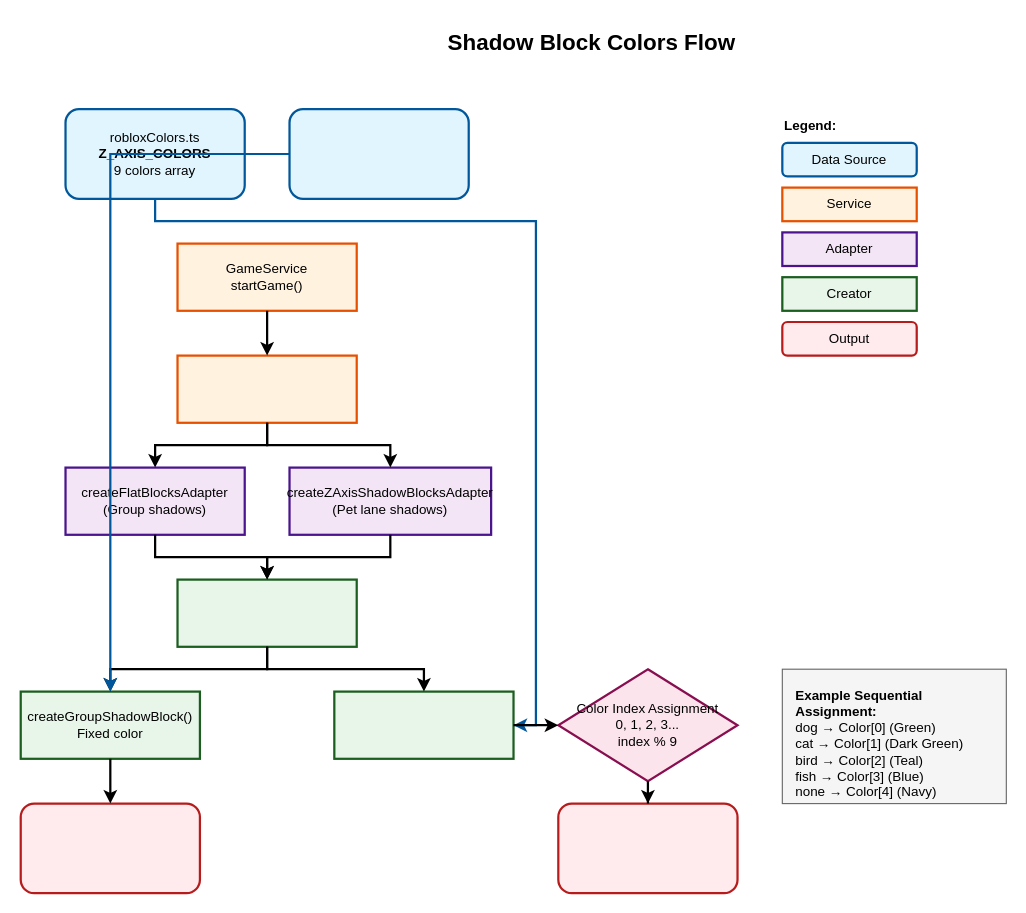
This 1026x913 diagram has some shape labels left out. The shapes that lost their labels are listed below. From the top down, each one's centre as x and y in pixels, then its label:
the point at 378,153: blockConstants.ts COLORS.SHADOW (0.5, 0.7, 1)
the point at 266,388: UnifiedDataRenderer renderEnhancedData()
the point at 266,612: ShadowBlockCreator
the point at 423,724: createZAxisShadowBlocks() Sequential colors
the point at 109,848: Group Shadow Block Light Blue (0.5, 0.7, 1)
the point at 647,848: Pet Lane Shadows Sequential Colors Z_AXIS_COLORS[0..8]
